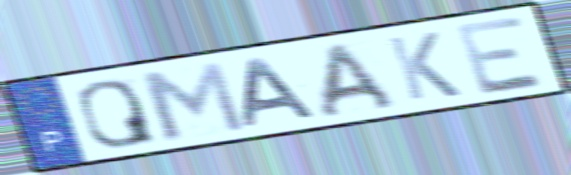A: (317, 40, 402, 121), (242, 55, 321, 130)
E: (451, 12, 549, 98)
K: (383, 29, 466, 103)
M: (133, 58, 251, 143)
Q: (74, 77, 161, 151)
